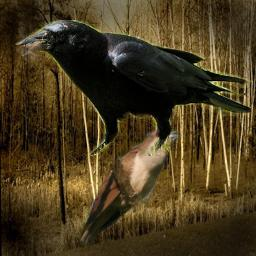Crow: (15, 20, 251, 156)
Cuckoo: (75, 128, 180, 251)
